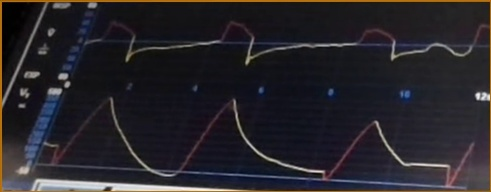Ineffective_effort Flow: (89, 14, 489, 77)
Ineffective_effort Volume: (41, 95, 474, 185)
